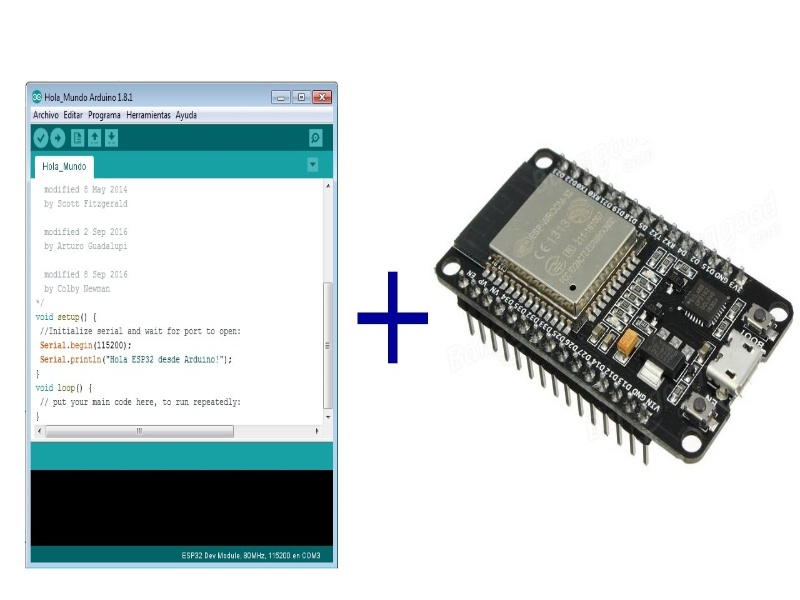esp32: (428, 152, 799, 478)
